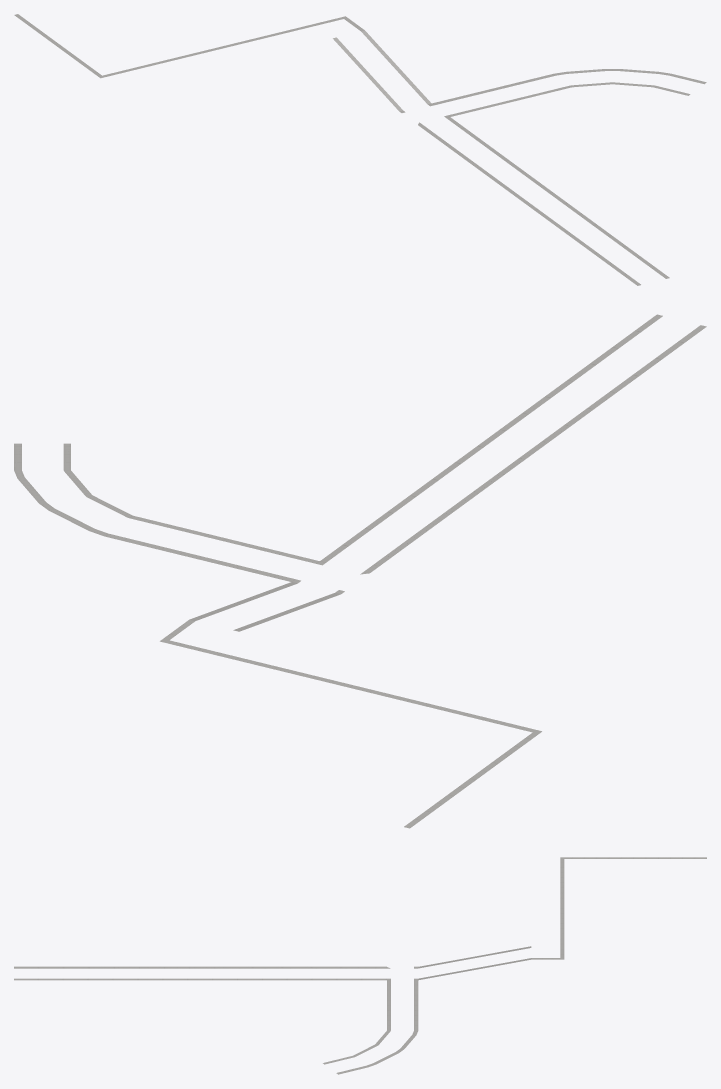
The model's file is kd_stage_135ded_2_0.glb.
The picture shows the model from 3 angles, top to bottom: view 1: azimuth 30°, elevation 25°; view 2: azimuth 150°, elevation 25°; view 3: azimuth 270°, elevation 25°; orthographic projection. The views are drawn at different scales.
Parts seen in each view (by area): view 1: kd_stage_135ded_2_0; view 2: kd_stage_135ded_2_0; view 3: kd_stage_135ded_2_0.
Part boxes in pixels (x1,y1,x2,y2): kd_stage_135ded_2_0: (14,14,706,285); kd_stage_135ded_2_0: (14,314,706,828); kd_stage_135ded_2_0: (14,857,706,1074).
Bounding box in the file's own units: 58.46 × 2.85 × 87.02.
1 material, 1 textured.
